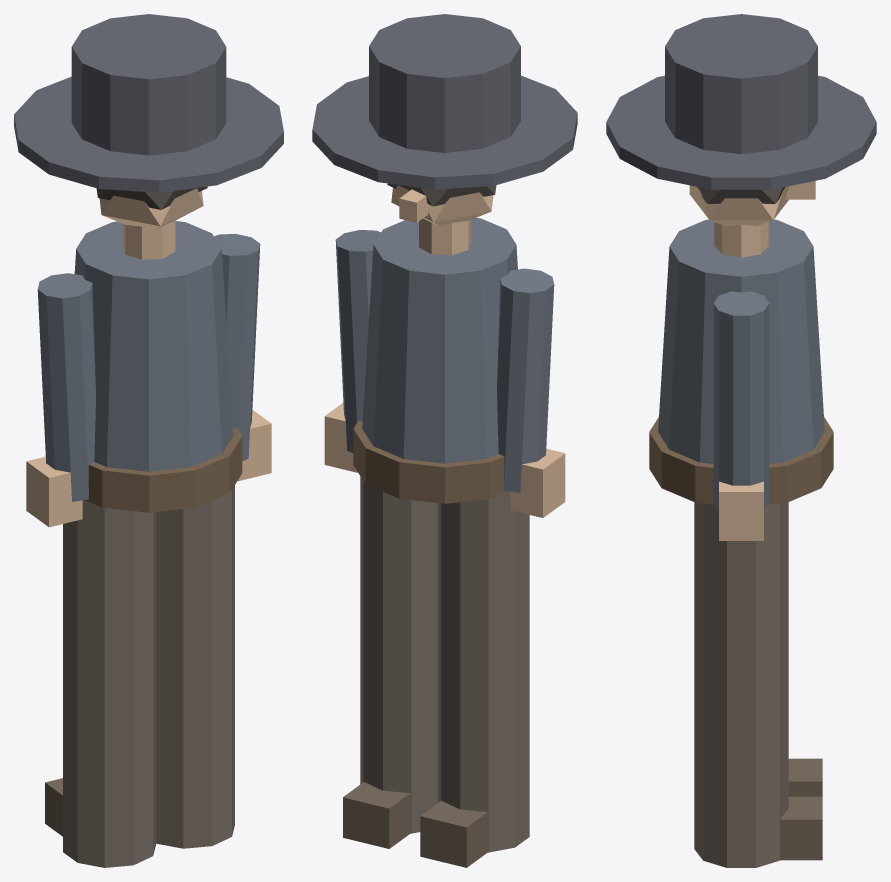
File: guard_civ.glb
The picture shows the model from 3 angles, left to right: view 1: azimuth 30°, elevation 25°; view 2: azimuth 150°, elevation 25°; view 3: azimuth 270°, elevation 25°; orthographic projection.
Visible parts, largest first — view 1: guard_civ; view 2: guard_civ; view 3: guard_civ.
Part boxes in pixels (x1=…): guard_civ: x1=14, y1=14, x2=283, y2=867; guard_civ: x1=312, y1=14, x2=577, y2=867; guard_civ: x1=606, y1=14, x2=876, y2=867.
Size of the model in its own units: 0.6318 by 2.07 by 0.648.
